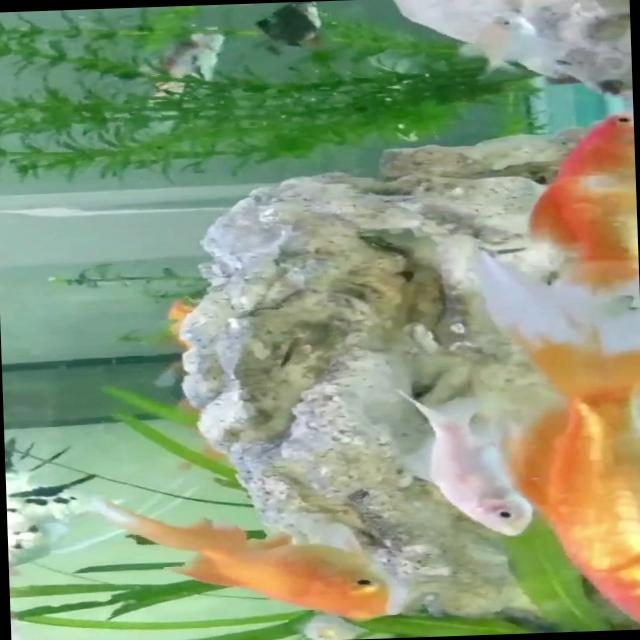GoldFish: (92, 478, 420, 638), (524, 349, 640, 627), (530, 113, 638, 296)
